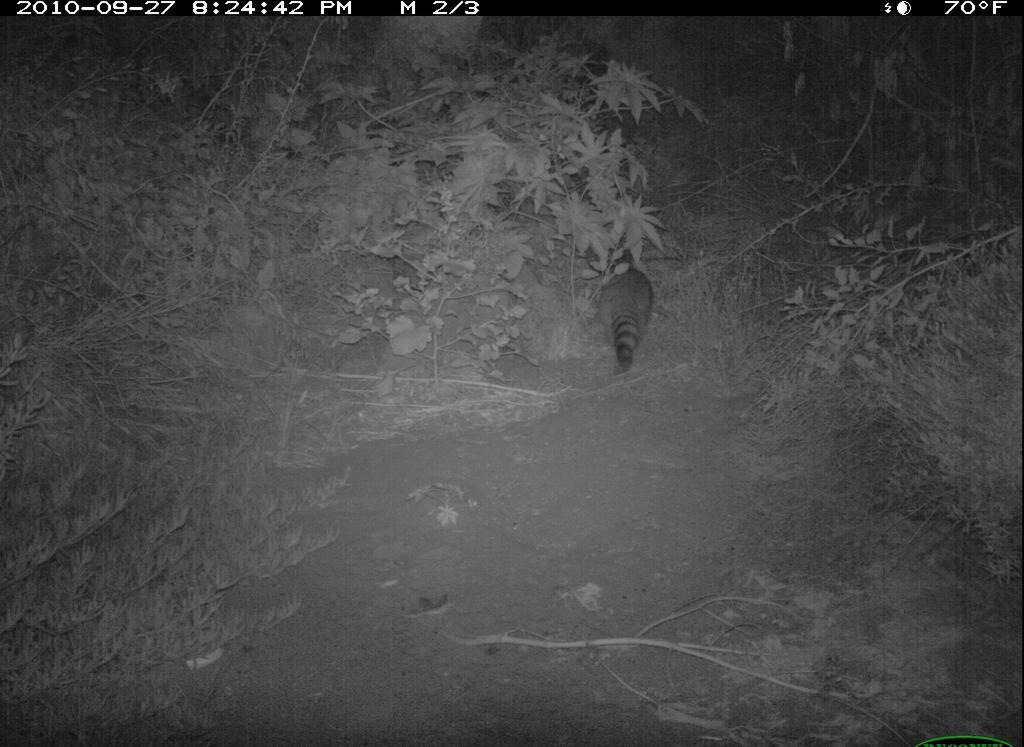raccoon: (584, 236, 678, 376)
